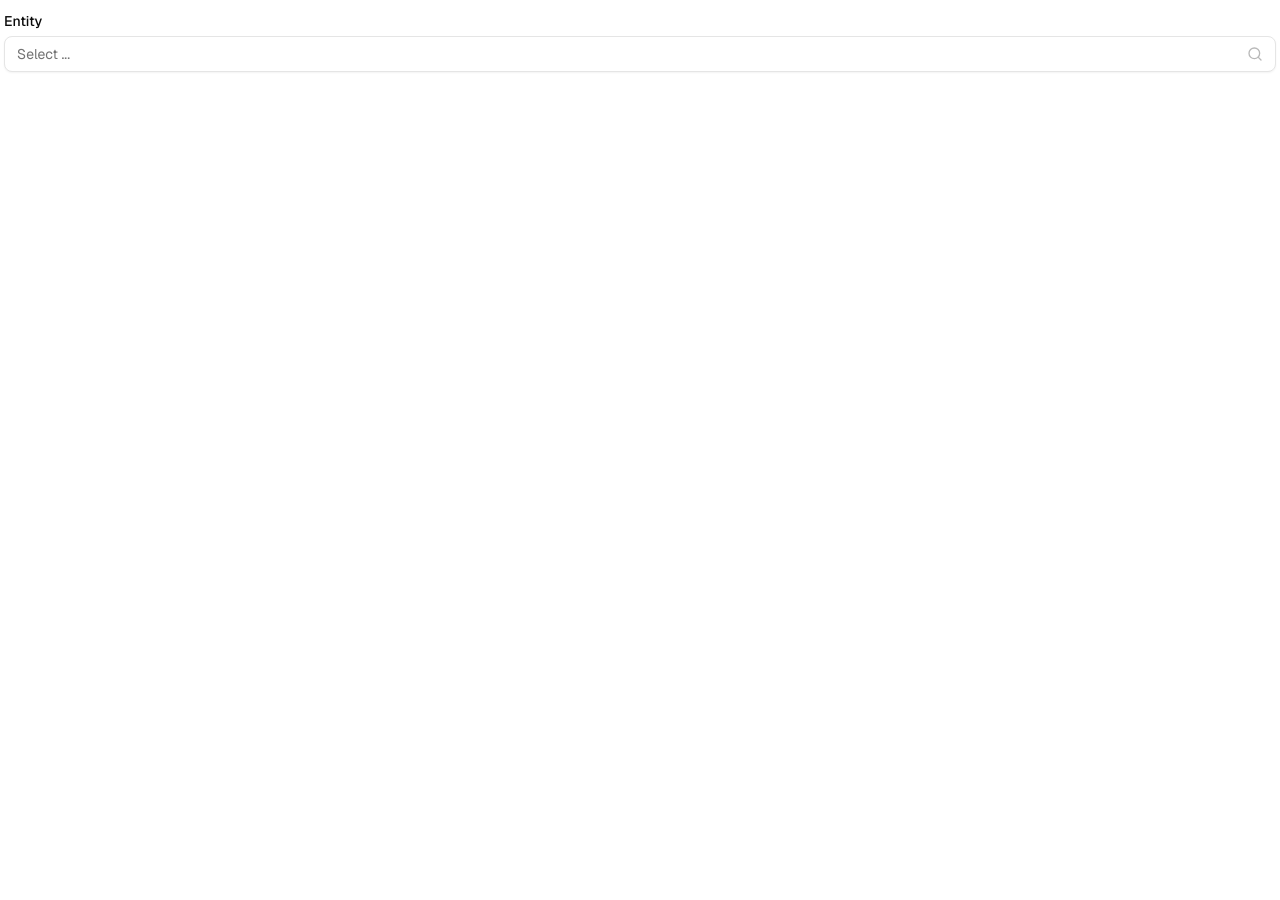
Test case: Story 3.3: Tabulkový Dropdown v Relationship Pickeru › should pass table configuration and modal width to relationship picker dialog
What coordinates should you click on to do the following:
click the dropdown
I would click on:
 (640, 54)
Its box is top-left (4, 36), bottom-right (1276, 72).
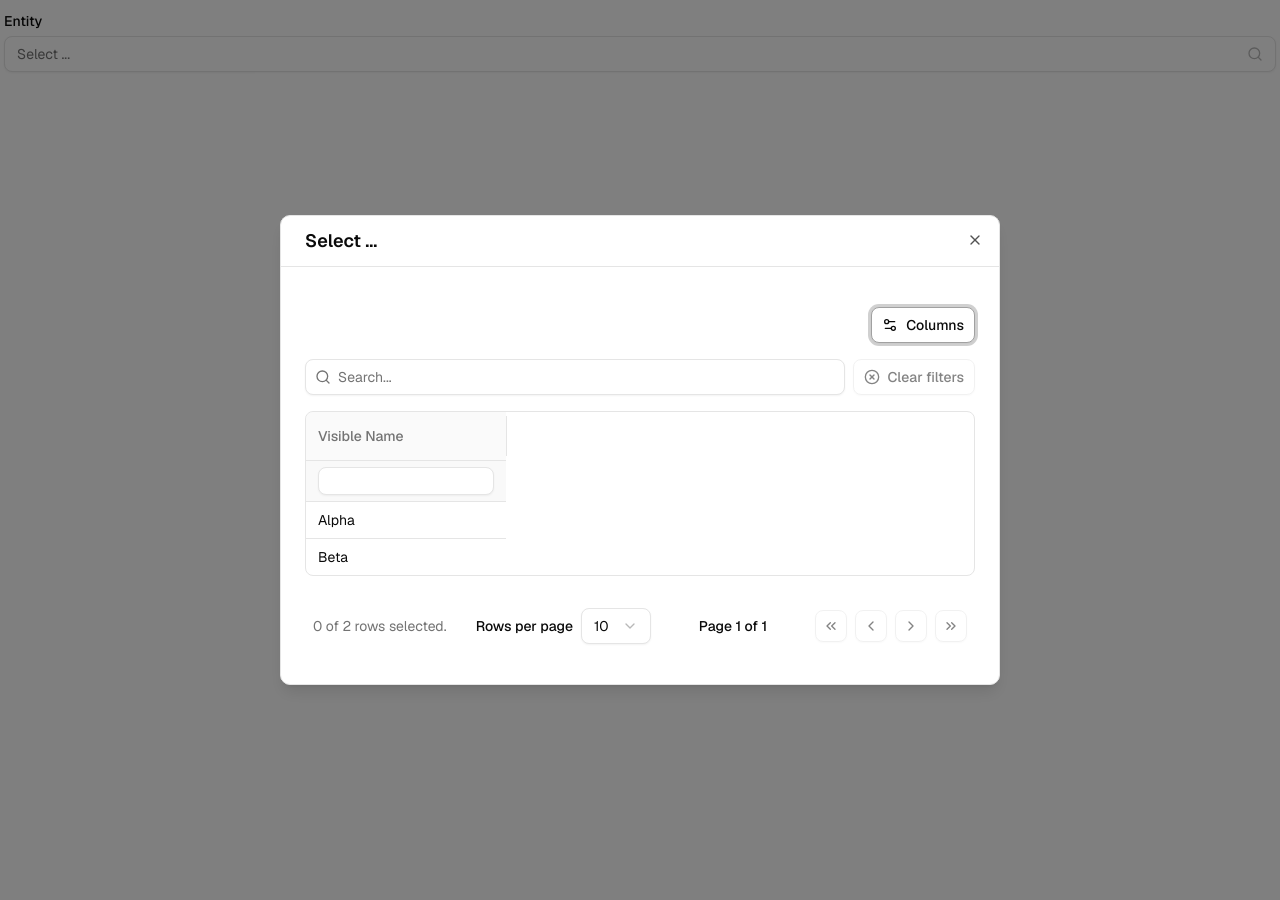
Now the text "Visible Name" is shown, box top-left (318, 426), bottom-right (404, 446)
